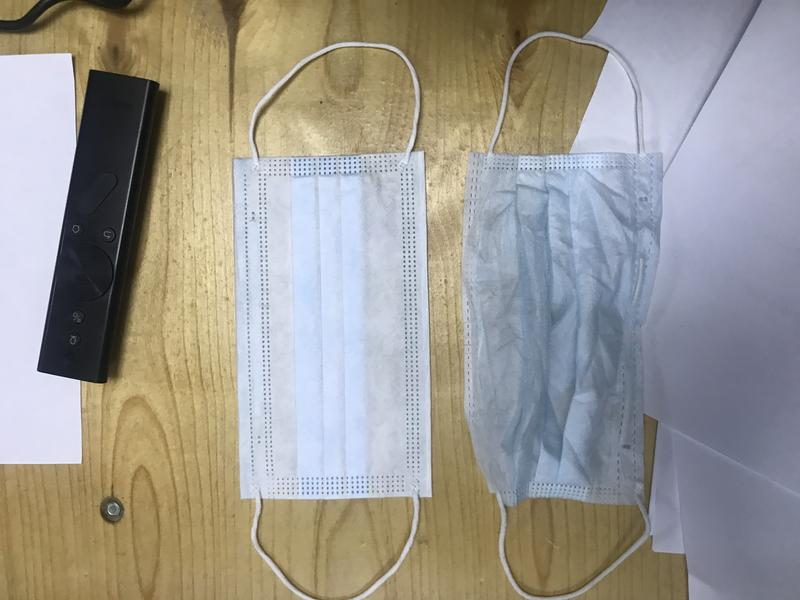medical_mask: (233, 43, 433, 600), (462, 30, 654, 600)
